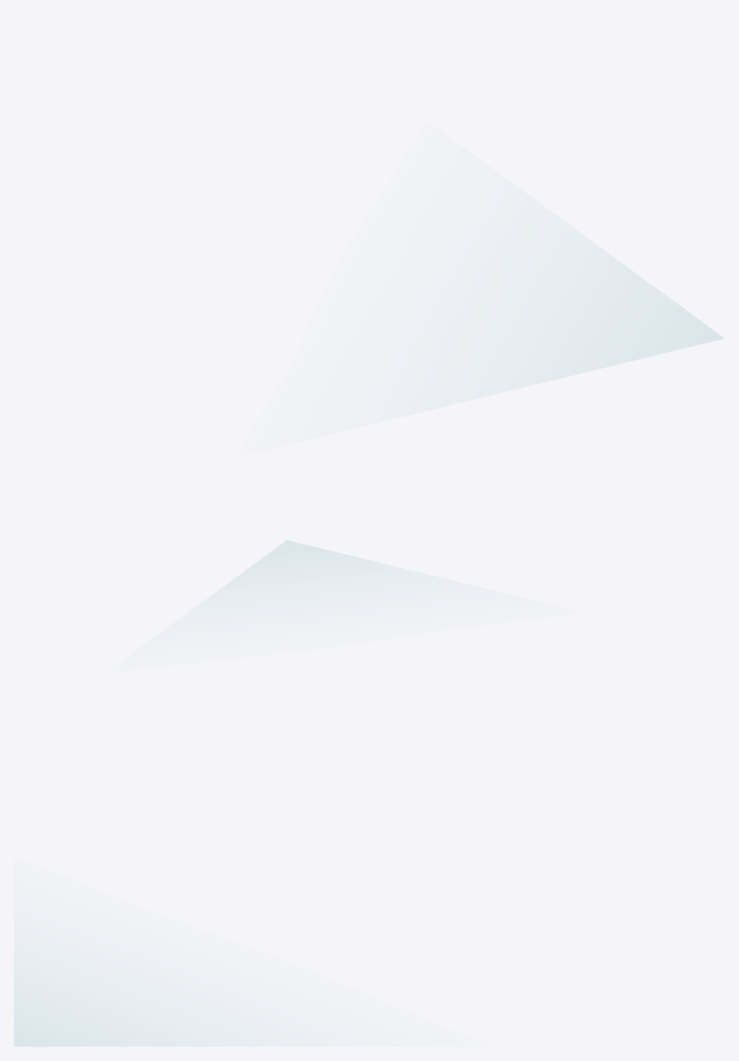
3 views of the same model, one above another, from view 1: azimuth 30°, elevation 25°; view 2: azimuth 150°, elevation 25°; view 3: azimuth 270°, elevation 25° (orthographic). The views are drawn at different scales.
Visible parts, largest first — view 1: city; view 2: city; view 3: city.
Boxes of the visible parts, <box> form: city: <box>586,277,723,371</box>; city: <box>237,540,369,577</box>; city: <box>14,992,145,1045</box>.
Bounding box in the file's own units: 161 × 0 × 174.
